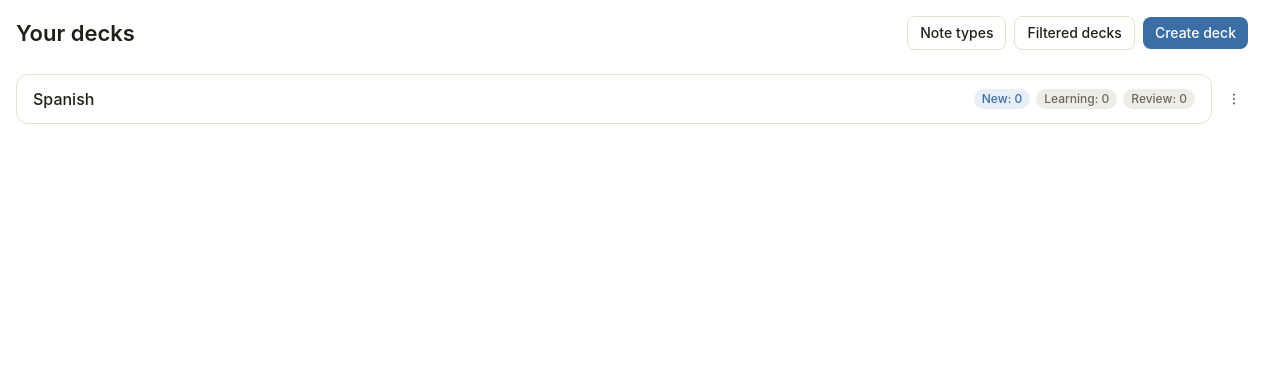
it: DecksScreen › reveals QuickAddNote for a deck row from its overflow menu, without nesting it inside the deck Link
Expected: the field labelled "Front" is not shown
Click the button named "More actions for Spanish": (1234, 99) [1220,85,1248,113]
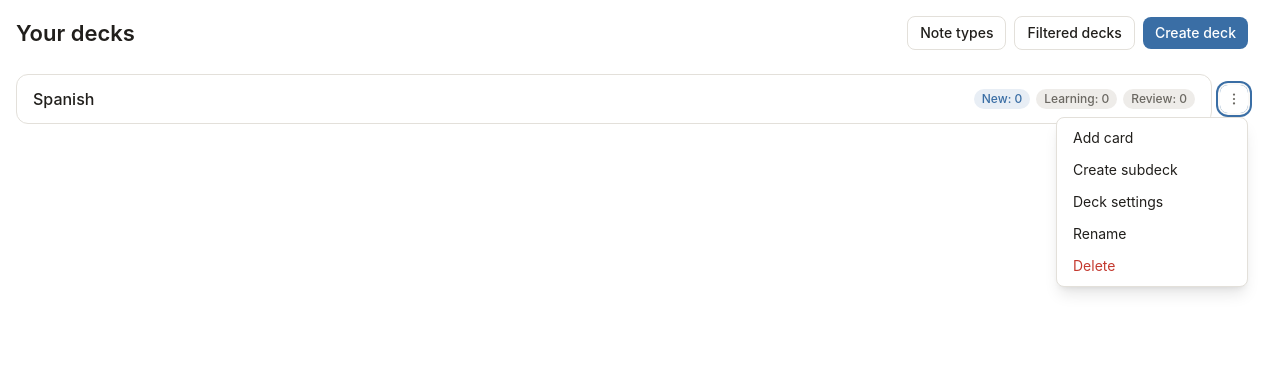
Click the menu item "Add card": (1152, 138) [1061,122,1243,154]
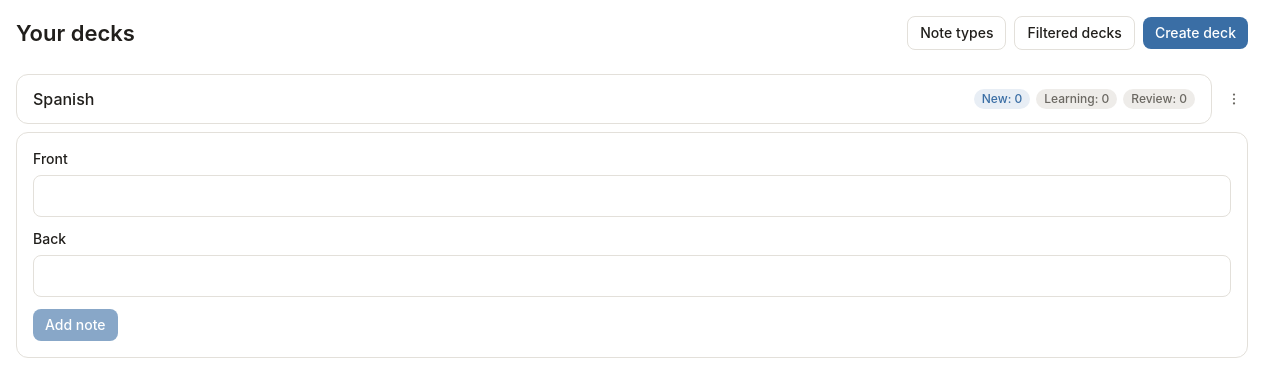
Now the field labelled "Front" is shown, box [33,175,1231,217]
